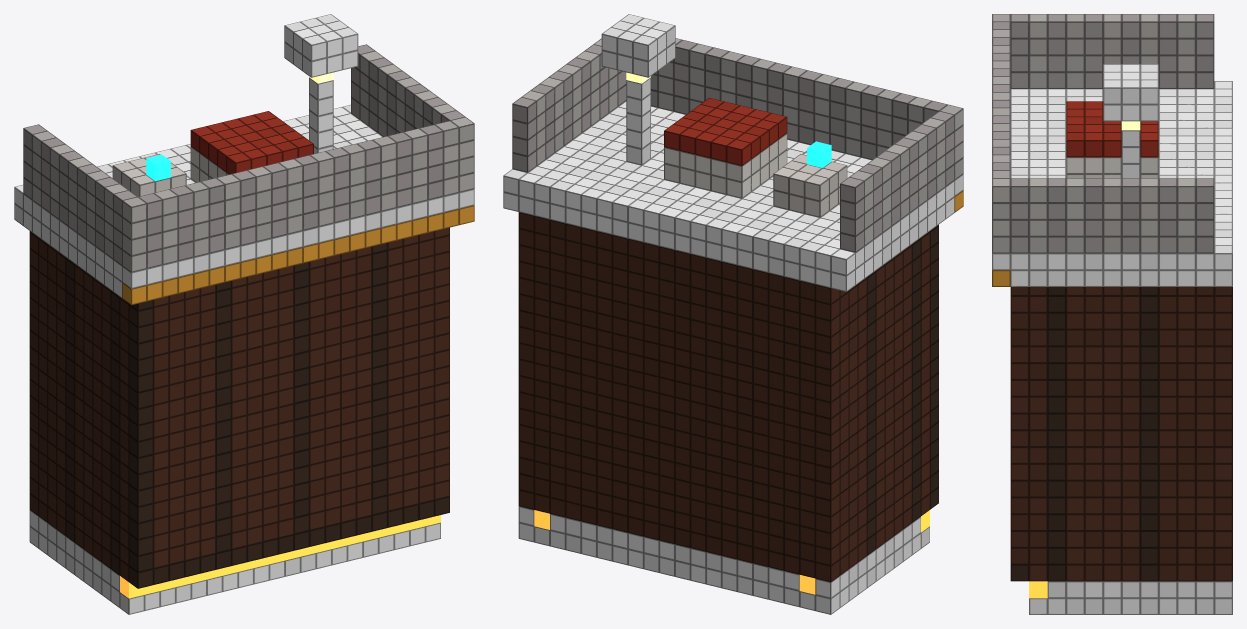
The model's file is cashier_counter.glb.
The picture shows the model from 3 angles, left to right: view 1: azimuth 30°, elevation 25°; view 2: azimuth 150°, elevation 25°; view 3: azimuth 270°, elevation 25°; orthographic projection. The views are drawn at different scales.
Visible parts, largest first — view 1: cashier_counter; view 2: cashier_counter; view 3: cashier_counter.
Part boxes in pixels (box(x1,y1,x2,y2)): cashier_counter: box(14, 14, 474, 614); cashier_counter: box(503, 14, 963, 614); cashier_counter: box(992, 14, 1232, 614).
Bounding box in the file's own units: 1.1 × 1.5 × 0.65.
14 materials, 11 textured.
